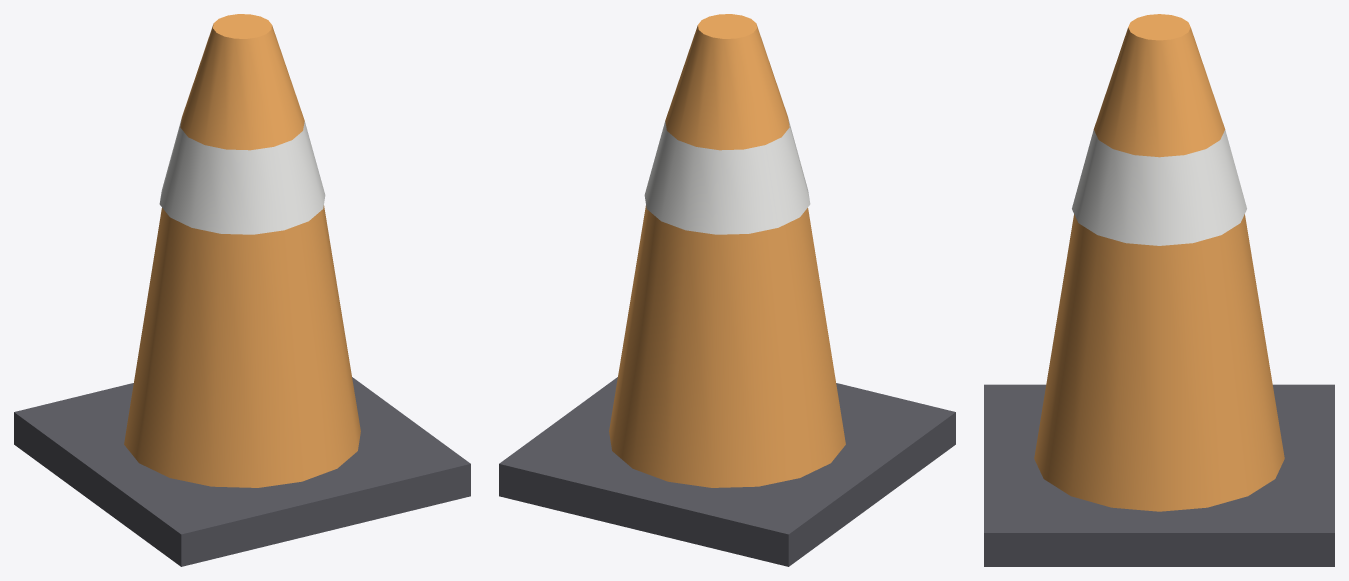
File: Obs3_Cone.fbx
3 views of the same model, side by side, from view 1: azimuth 30°, elevation 25°; view 2: azimuth 150°, elevation 25°; view 3: azimuth 270°, elevation 25° (orthographic). The views are drawn at different scales.
Parts seen in each view (by area): view 1: Obs3_Cone; view 2: Obs3_Cone; view 3: Obs3_Cone.
Boxes of the visible parts, x1,y1,x2,y2 form: Obs3_Cone: (14, 14, 470, 566); Obs3_Cone: (499, 14, 955, 566); Obs3_Cone: (984, 14, 1334, 566).
Bounding box in the file's own units: 0.56 × 0.82 × 0.56.
